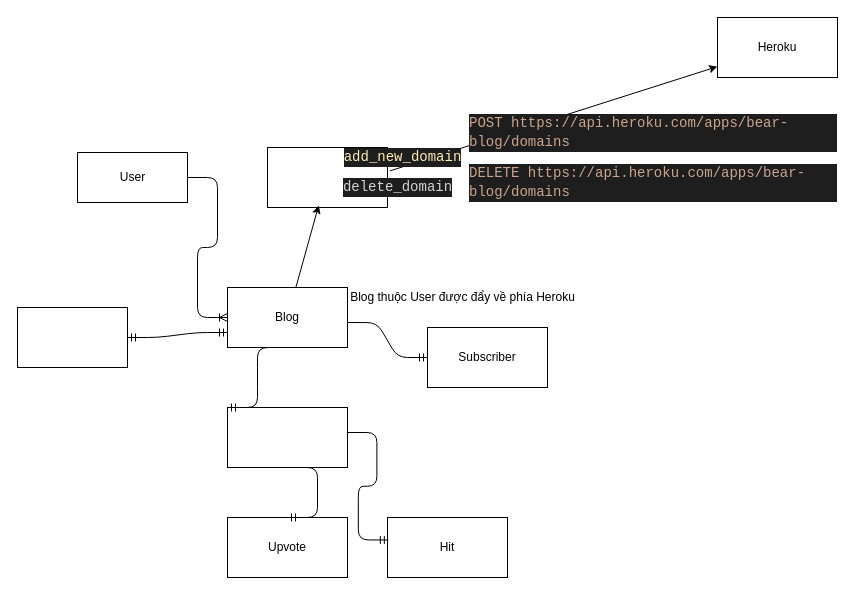
Some shapes in this 855 by 595 pixel diagram are drawn without their labels. Here are the shapes that lost their labels. From the top down, the centre of each, then its label:
At point 327,177: "Helper".
At point 72,337: "Emailer".
At point 287,437: "POST".
